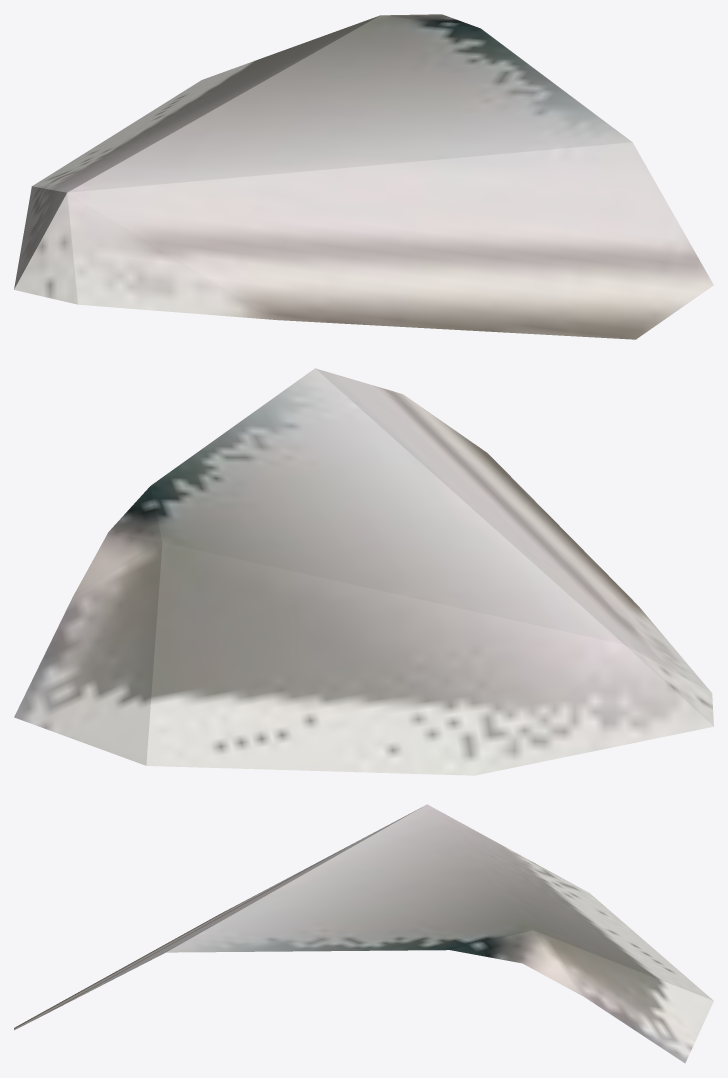
3 renders of one model, top to bottom at view 1: azimuth 30°, elevation 25°; view 2: azimuth 150°, elevation 25°; view 3: azimuth 270°, elevation 25°, orthographic. The views are drawn at different scales.
Bounding box in the file's own units: 0.7297 × 0.1717 × 0.9595.
Materials: 1 (1 with a texture image).
